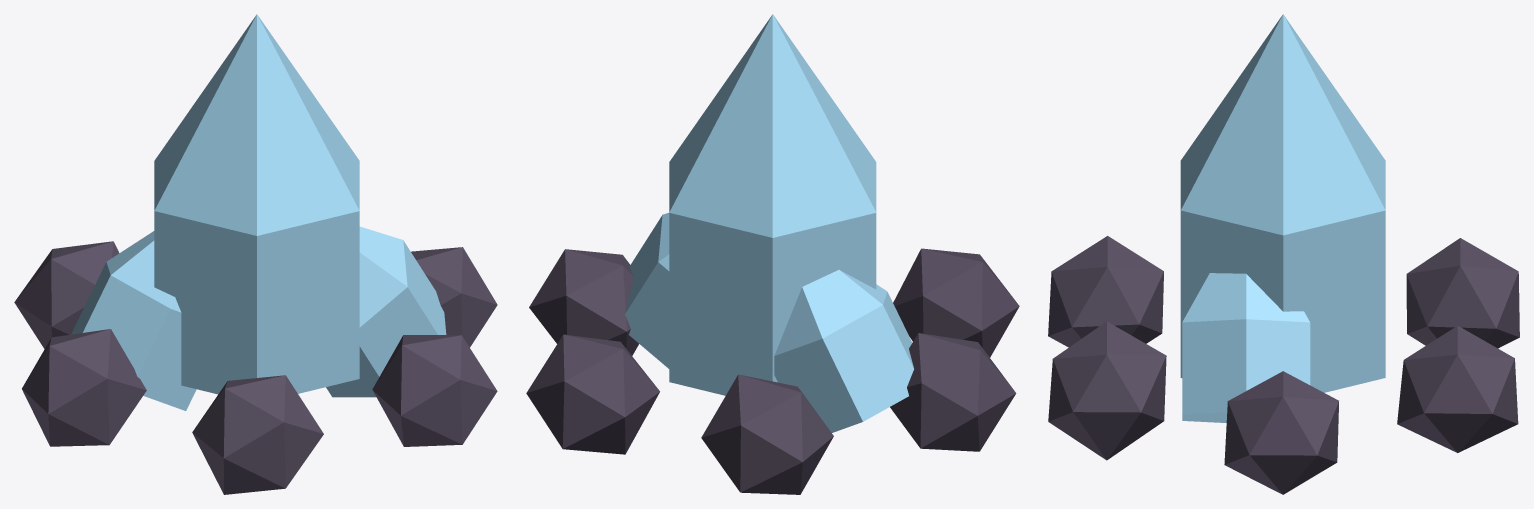
File: MinecartMayhemCrystal.obj
3 renders of one model, left to right at view 1: azimuth 30°, elevation 25°; view 2: azimuth 150°, elevation 25°; view 3: azimuth 270°, elevation 25°, orthographic.
Visible parts, largest first — view 1: Crystal, Stones; view 2: Crystal, Stones; view 3: Crystal, Stones.
Boxes of the visible parts, <box> form: Crystal: <box>71,14,446,410</box>; Stones: <box>14,241,497,494</box>; Crystal: <box>624,14,913,432</box>; Stones: <box>526,248,1019,494</box>; Crystal: <box>1180,14,1385,422</box>; Stones: <box>1048,236,1519,494</box>.
Bounding box in the file's own units: 1.4 × 1.16 × 1.28.
